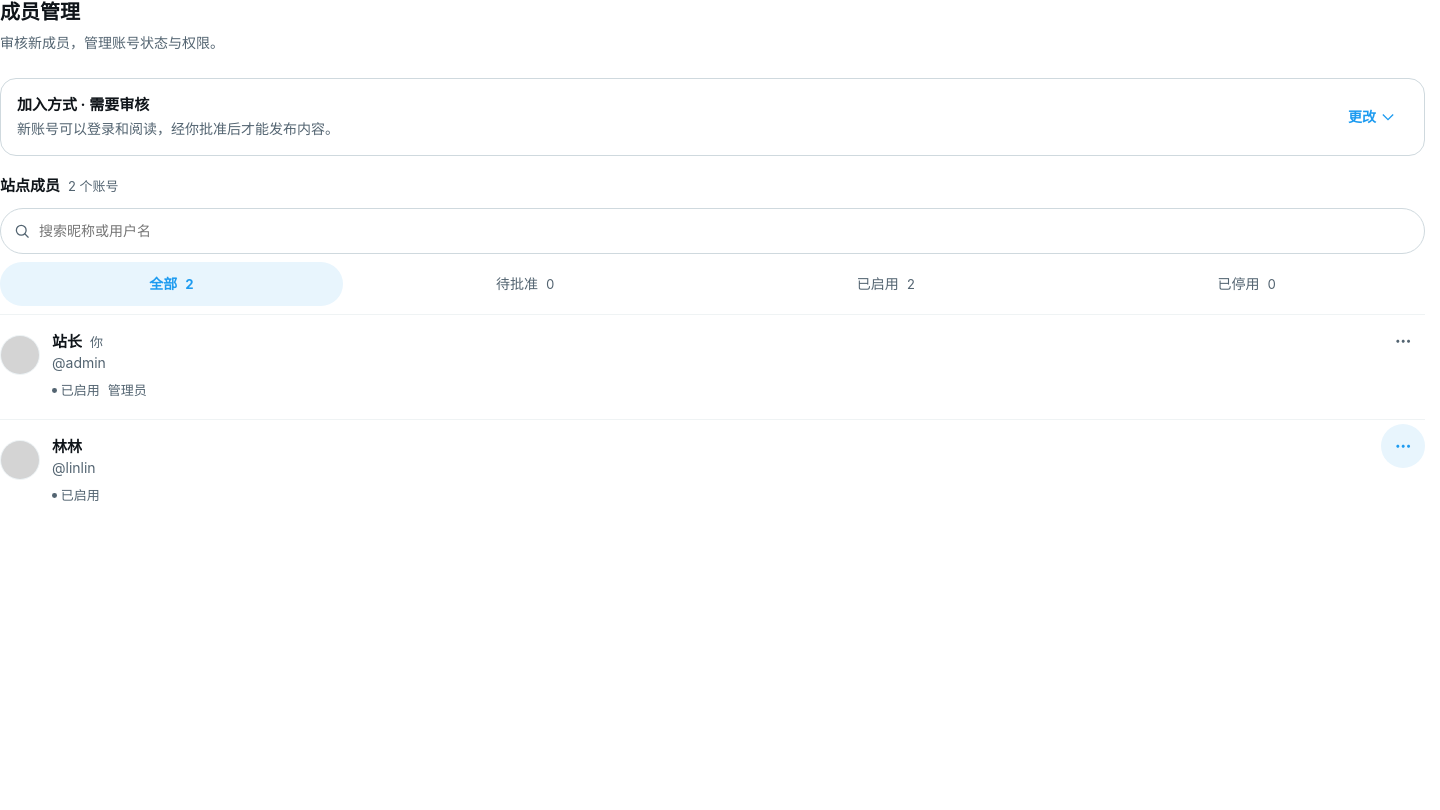
Scenario: members section › confirms suspension and restores focus when cancelled without writing
Press ArrowDown in the button named "管理 林林", box [1381,424,1425,468]
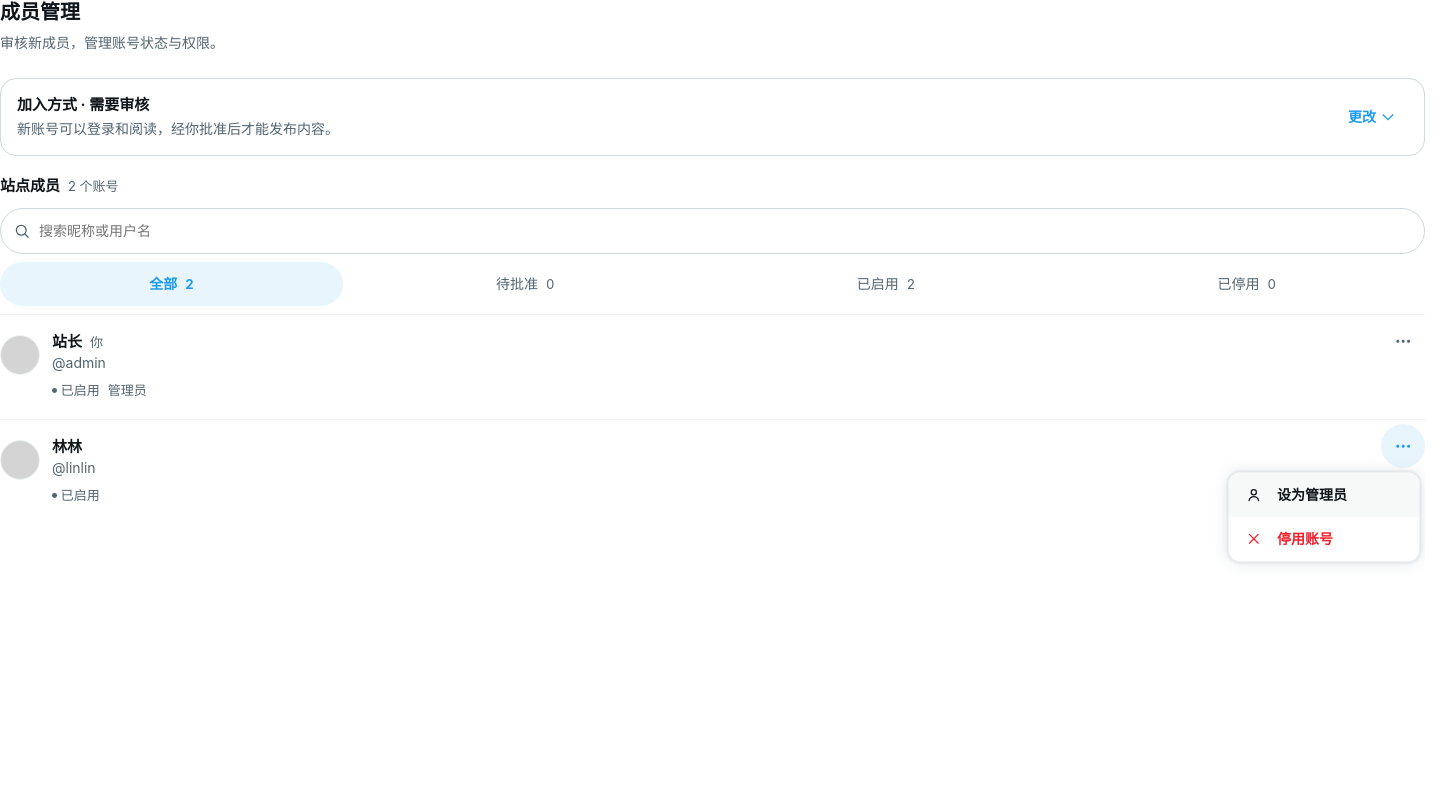
Click the menu item "停用账号" at (1289, 539), box [1245,530,1333,548]
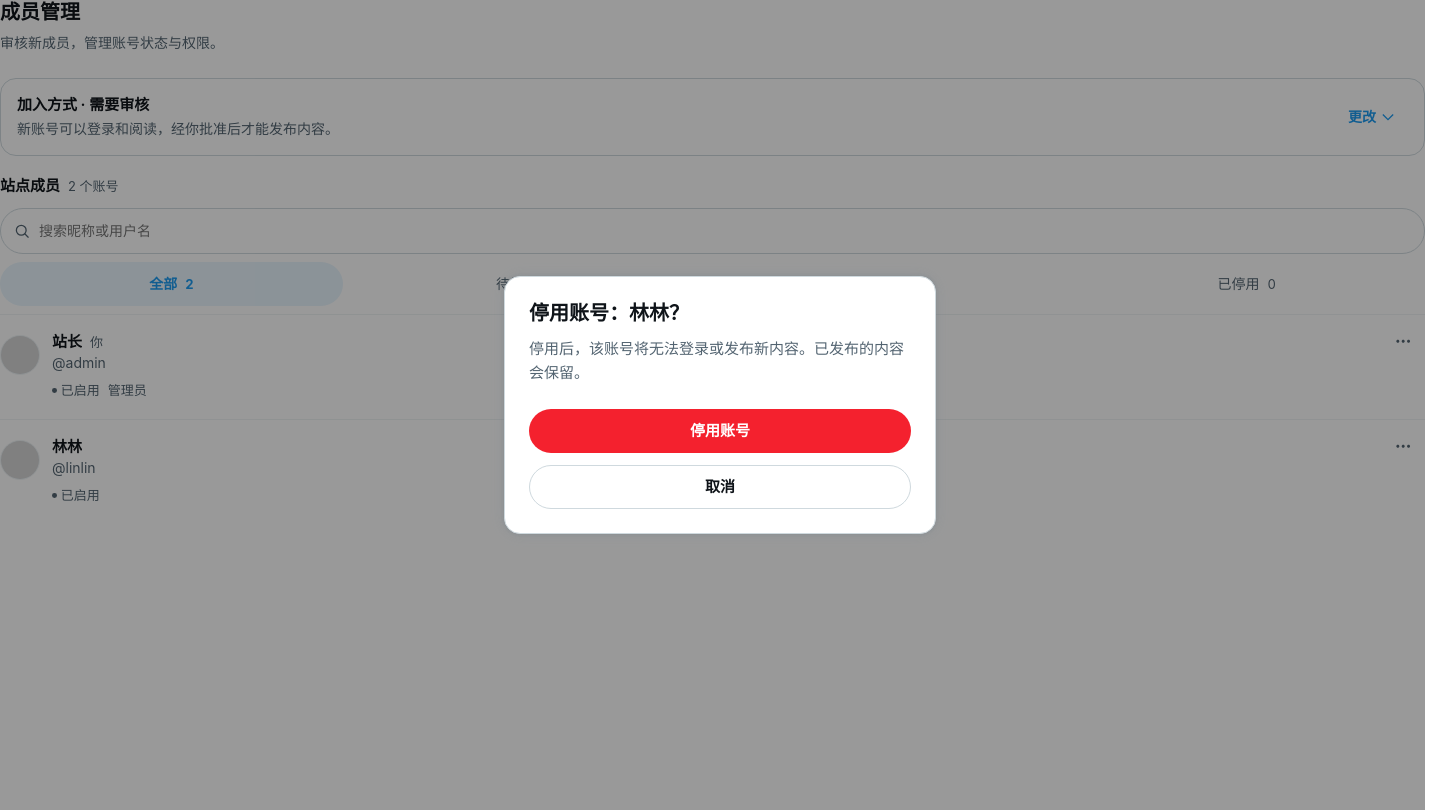
Expected: the dialog shows "已发布的内容会保留", [529,339,904,382]
Click the button "取消" at (720, 487), box [529,465,911,509]
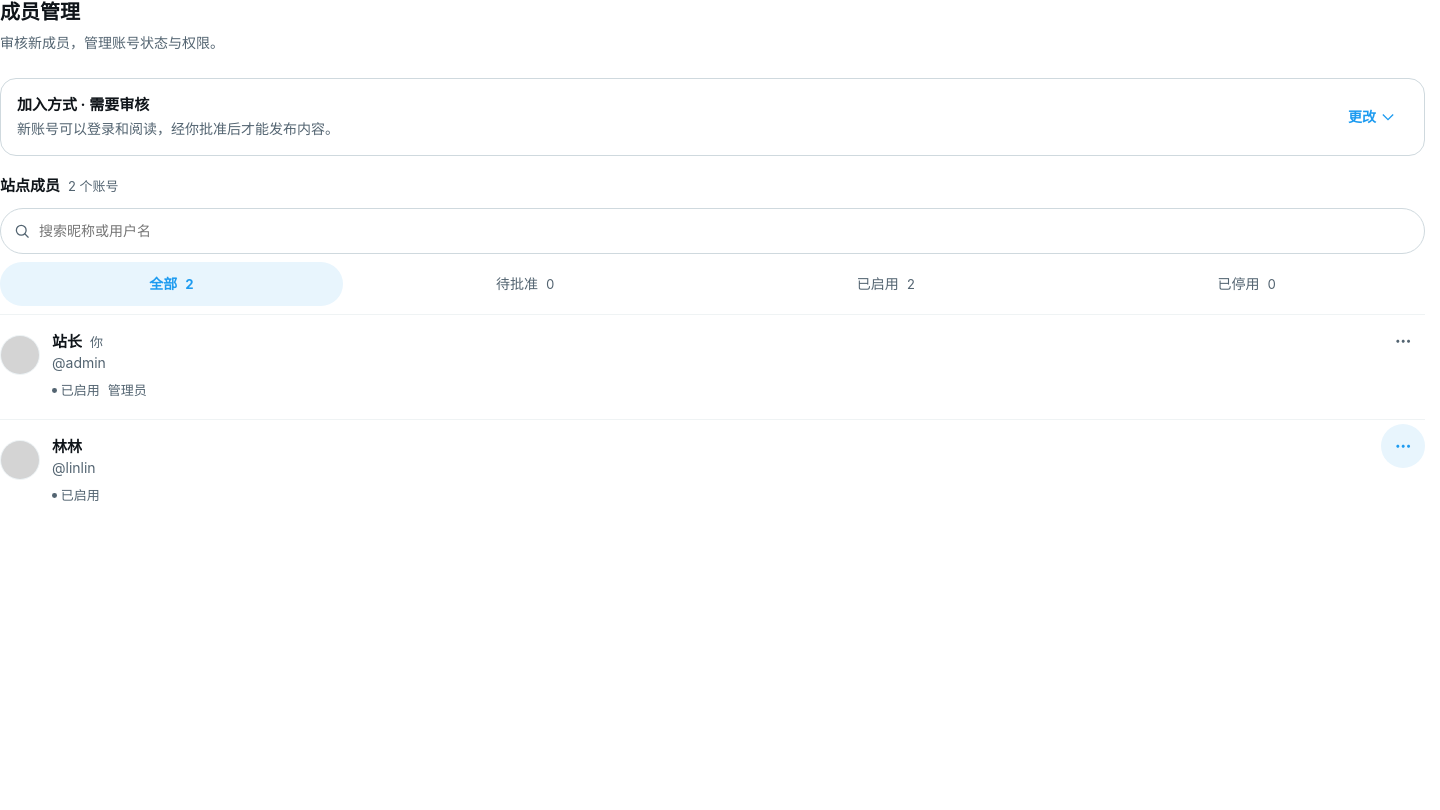
Expected: the dialog is gone
